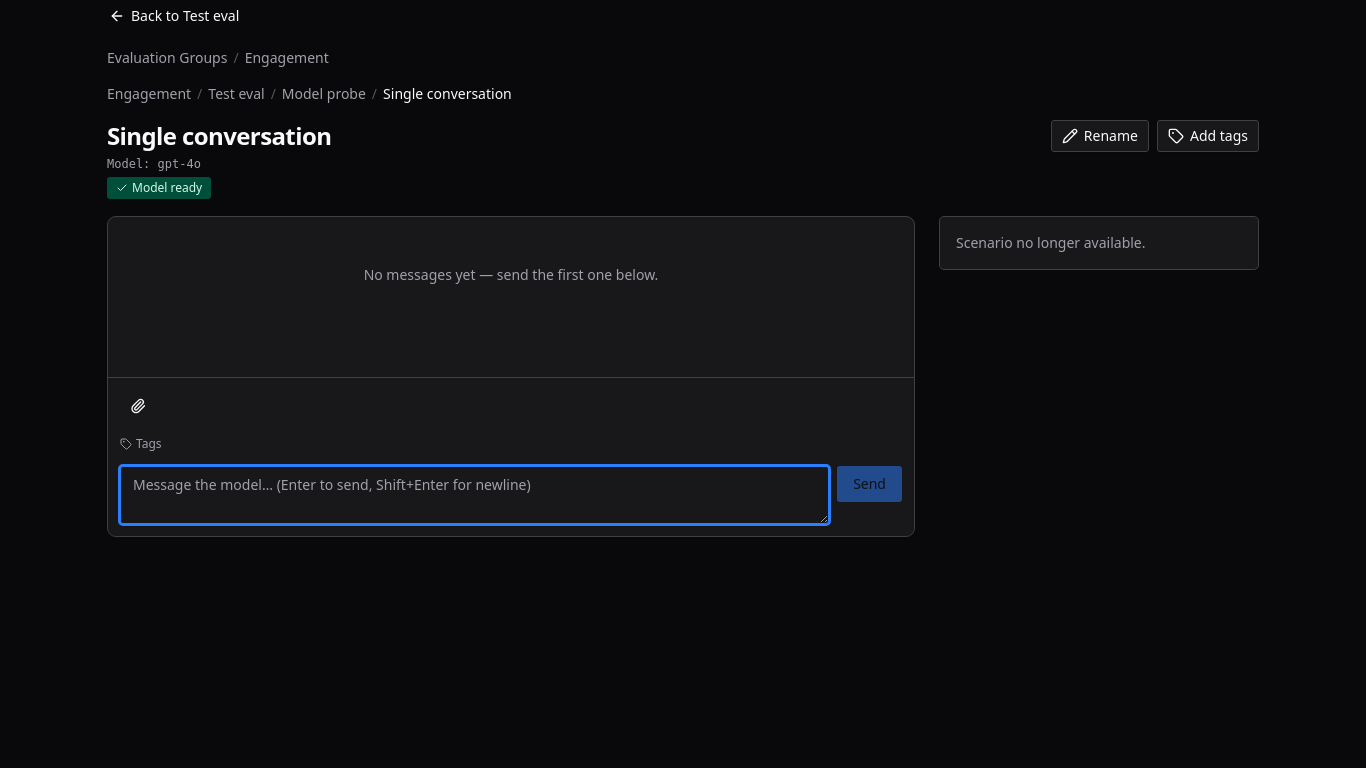
ConversationDetailPage — tags › shows the saved tags without a reload
The width and height of the screenshot is (1366, 768).
Expected: the heading "Single conversation" is shown, [107,120,331,152]
Click the button "Add tags". click: (1208, 136)
box: [1157,120,1259,152]
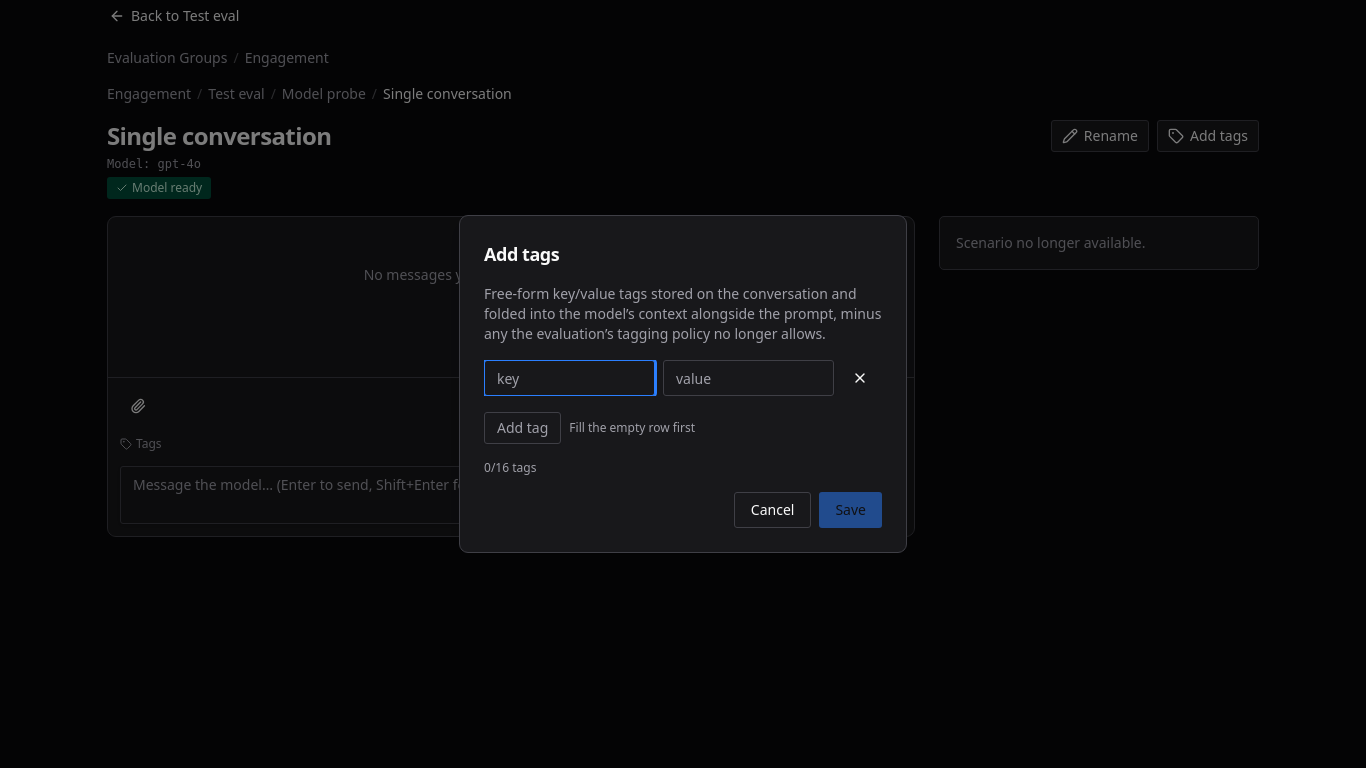
Type "env" into the field named "Tag 1 key". click: (570, 378)
box: [484,360,655,396]
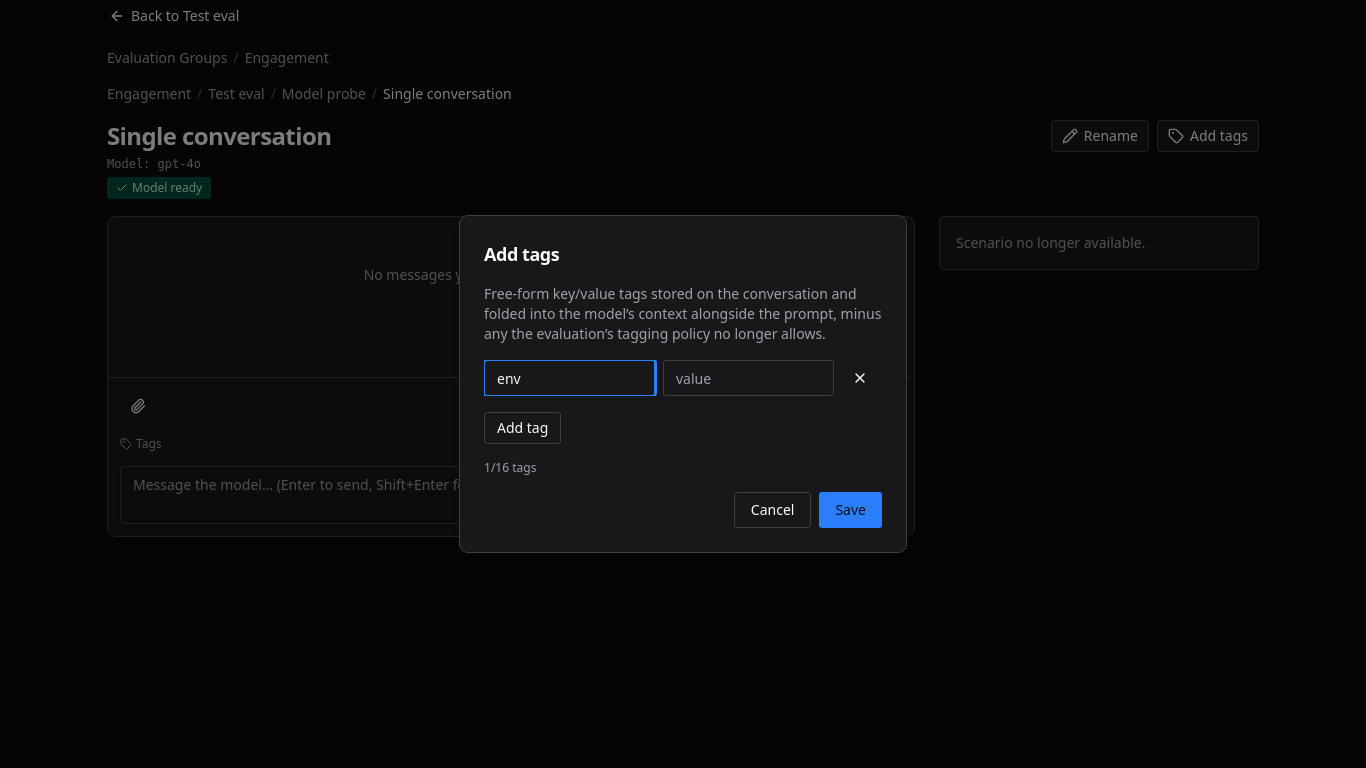
Type "prod" into the field named "Tag 1 value". click: (748, 378)
box: [663,360,834,396]
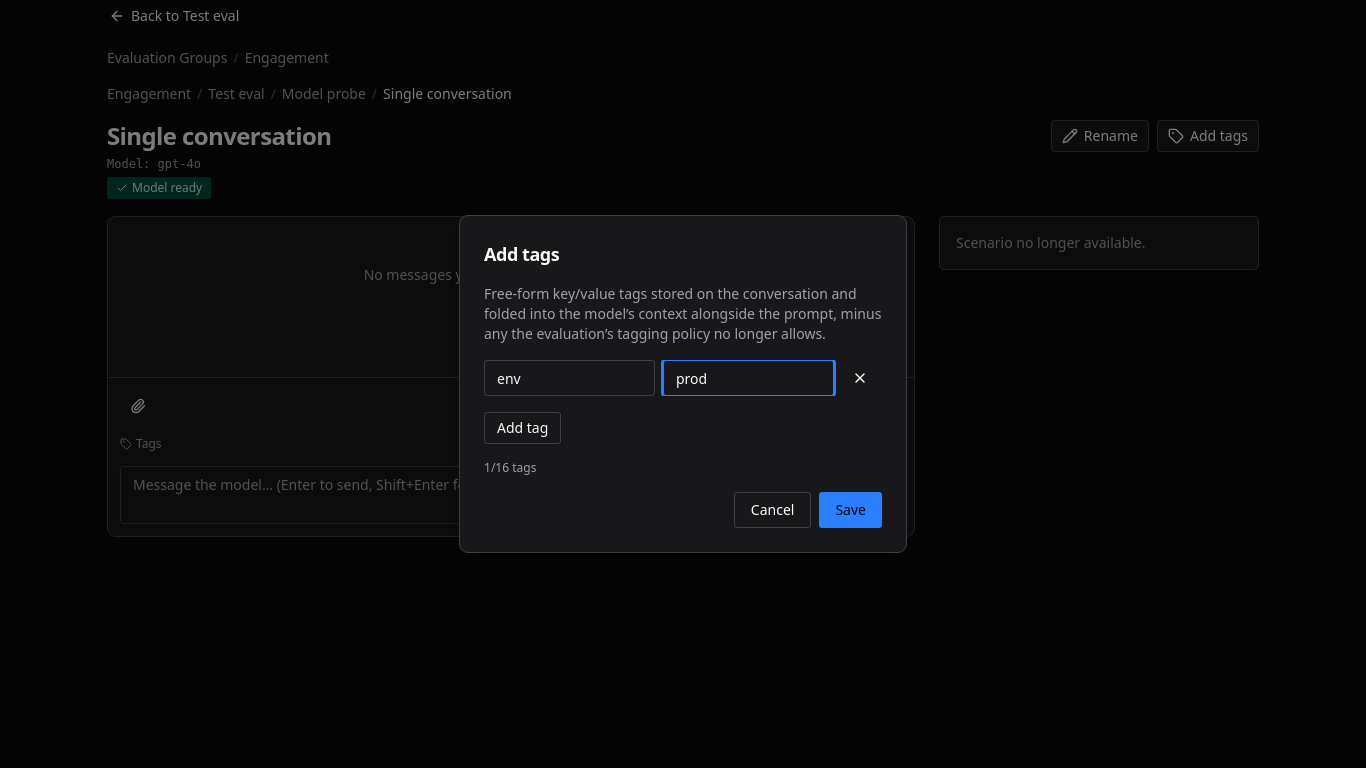
Click the button "Save". click: (851, 510)
box: [819,492,882,528]
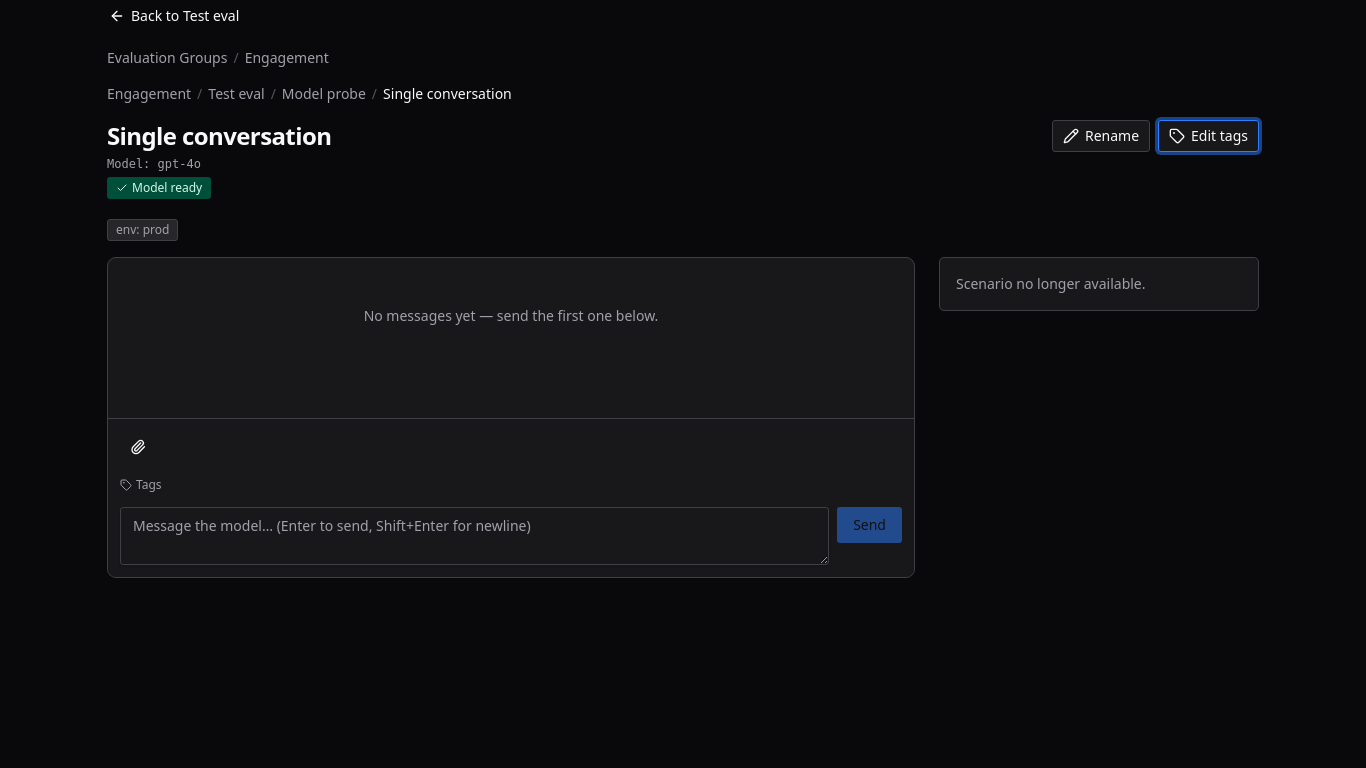
Result: the element titled "env: prod" is shown at [107,219,178,241]
